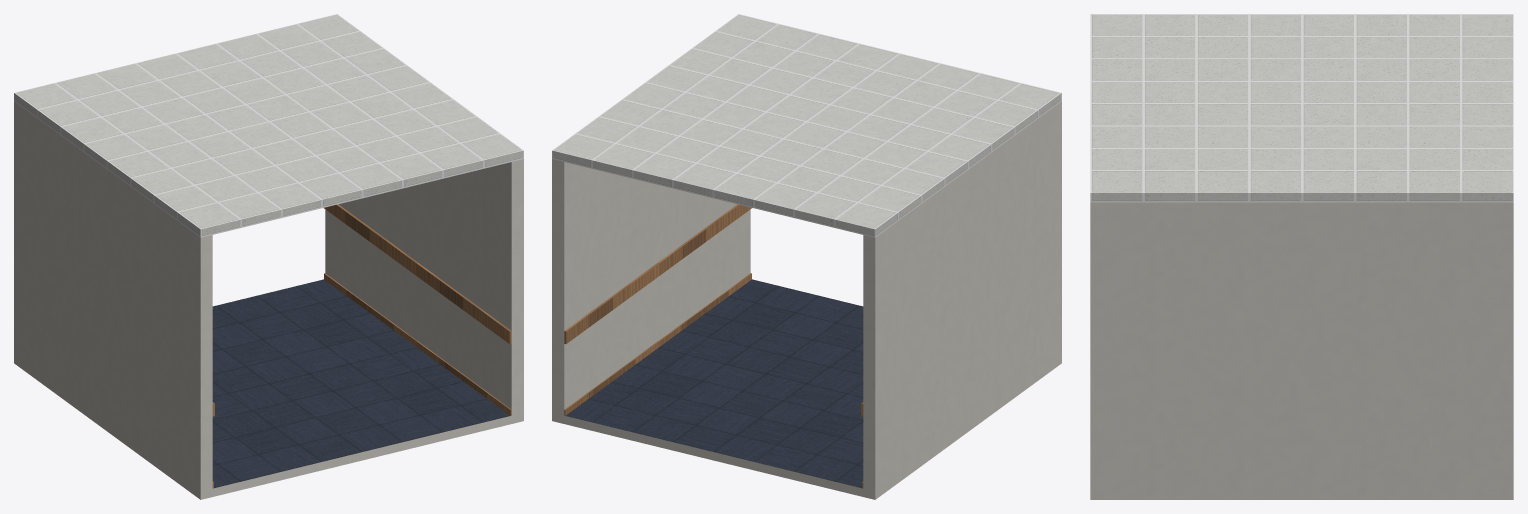
File: Corridor_Office_Straight.glb
3 renders of one model, left to right at view 1: azimuth 30°, elevation 25°; view 2: azimuth 150°, elevation 25°; view 3: azimuth 270°, elevation 25°, orthographic. The views are drawn at different scales.
Visible parts, largest first — view 1: Corridor_Office_Straight, Corridor_Office_Straight_Ceiling; view 2: Corridor_Office_Straight, Corridor_Office_Straight_Ceiling; view 3: Corridor_Office_Straight, Corridor_Office_Straight_Ceiling.
Boxes of the visible parts, left/top/right/bottom form: Corridor_Office_Straight: left=14, top=101, right=523, bottom=499; Corridor_Office_Straight_Ceiling: left=14, top=14, right=523, bottom=237; Corridor_Office_Straight: left=552, top=101, right=1061, bottom=499; Corridor_Office_Straight_Ceiling: left=552, top=14, right=1061, bottom=237; Corridor_Office_Straight: left=1090, top=202, right=1513, bottom=499; Corridor_Office_Straight_Ceiling: left=1090, top=14, right=1513, bottom=202.
Size of the model in its own units: 4 by 3.2 by 4.
Materials: 6 (4 with a texture image).
